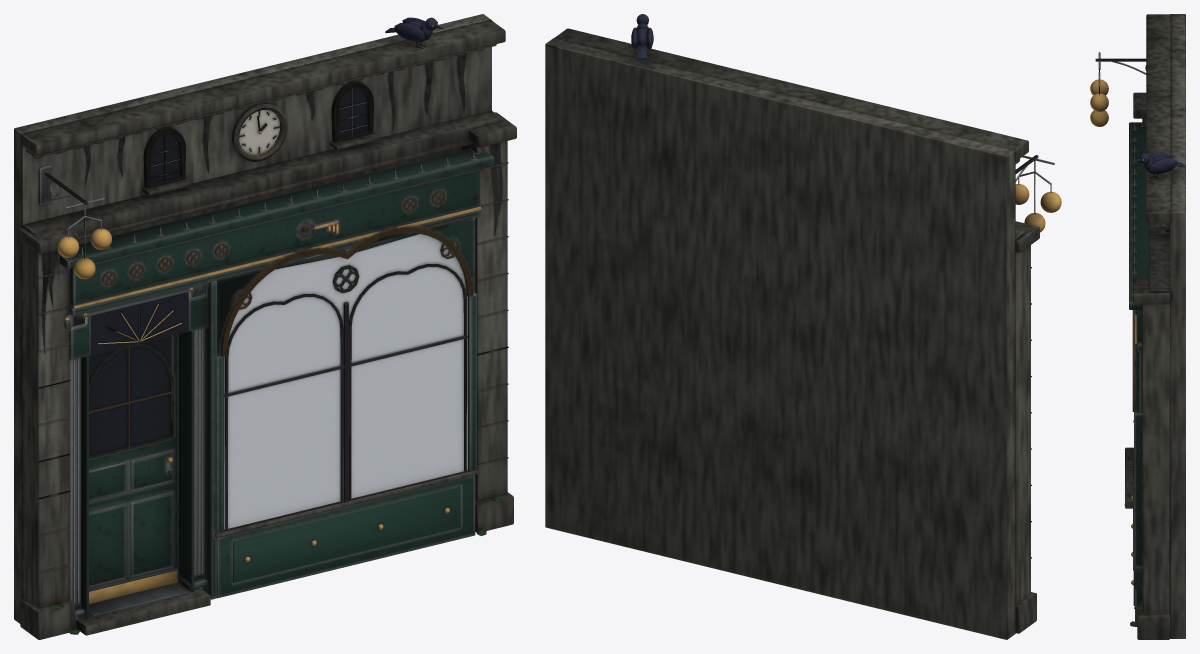
File: ShopCurio.fbx
The picture shows the model from 3 angles, left to right: view 1: azimuth 30°, elevation 25°; view 2: azimuth 150°, elevation 25°; view 3: azimuth 270°, elevation 25°; orthographic projection. The views are drawn at different scales.
Visible parts, largest first — view 1: ShopCurio_Main, ShopCurio_Glass, ShopCurio_Upper, ShopCurio_Door0, ShopCurio_Cloth; view 2: ShopCurio_Main, ShopCurio_Upper, ShopCurio_Cloth; view 3: ShopCurio_Main, ShopCurio_Upper, ShopCurio_Cloth.
Boxes of the visible parts, bbox=[...] form: ShopCurio_Main: bbox=[14, 14, 516, 639]; ShopCurio_Glass: bbox=[224, 234, 467, 529]; ShopCurio_Upper: bbox=[21, 17, 505, 354]; ShopCurio_Door0: bbox=[88, 334, 178, 604]; ShopCurio_Cloth: bbox=[57, 204, 111, 279]; ShopCurio_Main: bbox=[545, 38, 1054, 639]; ShopCurio_Upper: bbox=[554, 14, 1028, 252]; ShopCurio_Cloth: bbox=[1015, 160, 1061, 232]; ShopCurio_Main: bbox=[1095, 14, 1185, 639]; ShopCurio_Upper: bbox=[1134, 14, 1185, 381]; ShopCurio_Cloth: bbox=[1090, 70, 1108, 126].
Bounding box in the file's own units: 1221 × 1276 × 244.
